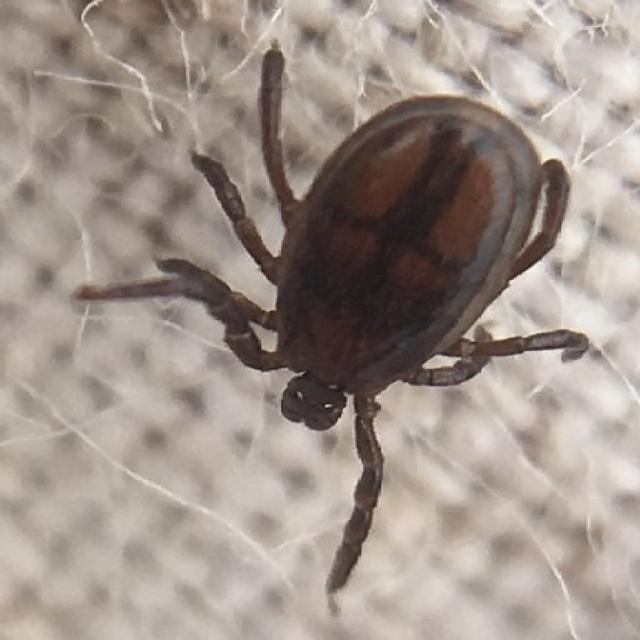Ixodes Ricinus-M: (78, 48, 588, 592)
